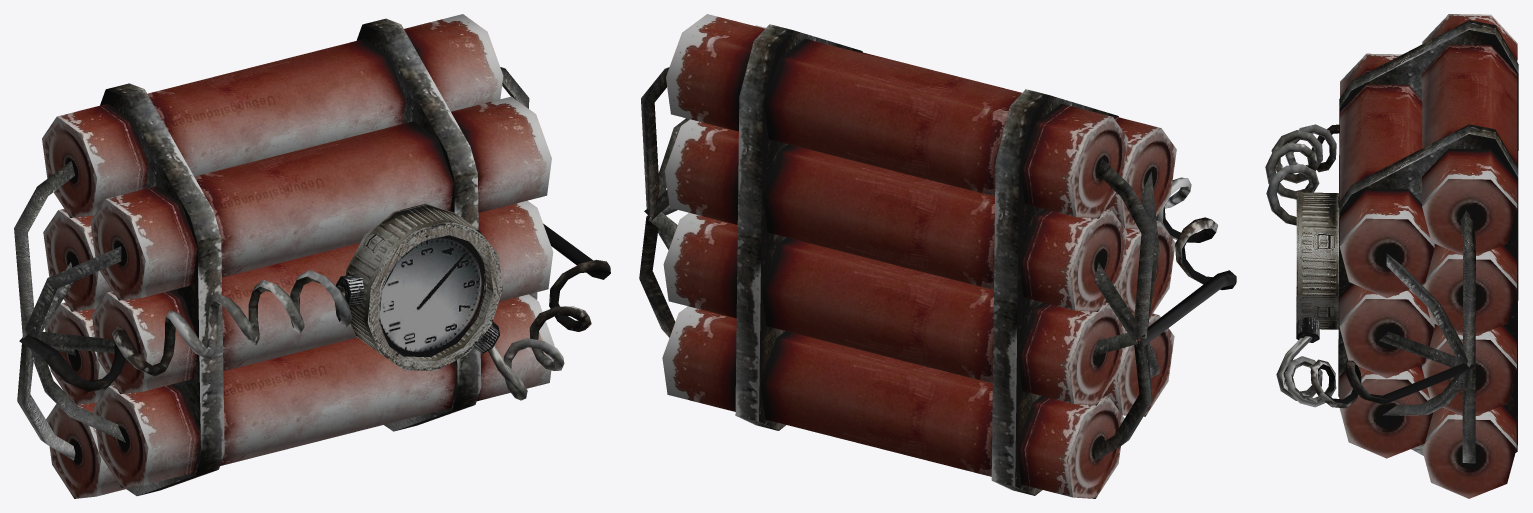
The model's file is bomba_1.glb.
The picture shows the model from 3 angles, left to right: view 1: azimuth 30°, elevation 25°; view 2: azimuth 150°, elevation 25°; view 3: azimuth 270°, elevation 25°; orthographic projection. The views are drawn at different scales.
Visible parts, largest first — view 1: Box02; view 2: Box02; view 3: Box02.
Boxes of the visible parts, x1=… form: Box02: x1=14, y1=14, x2=610, y2=498; Box02: x1=639, y1=14, x2=1236, y2=498; Box02: x1=1265, y1=14, x2=1518, y2=498.
Size of the model in its own units: 455 by 311 by 212.
1 material, 1 textured.
